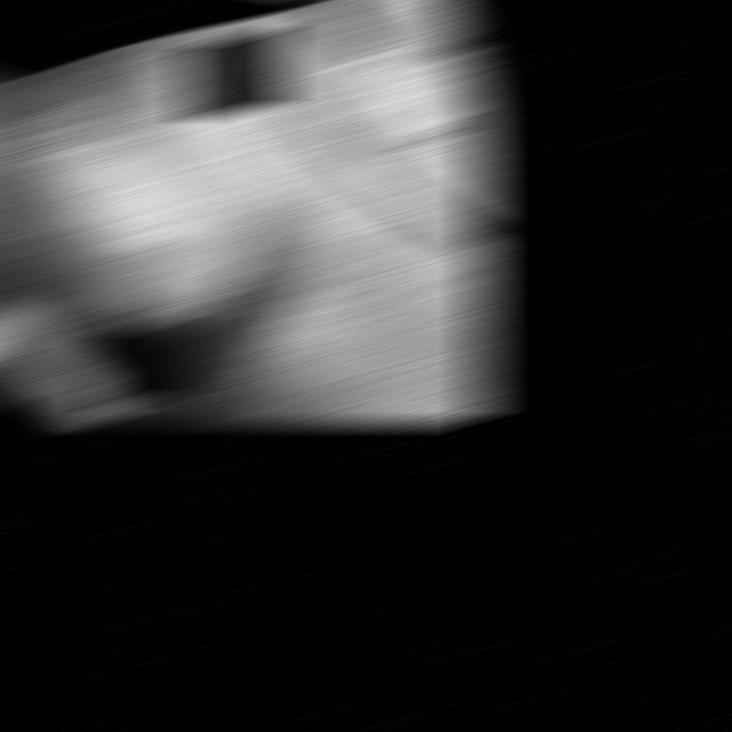Airbag: (0, 3, 494, 421)
